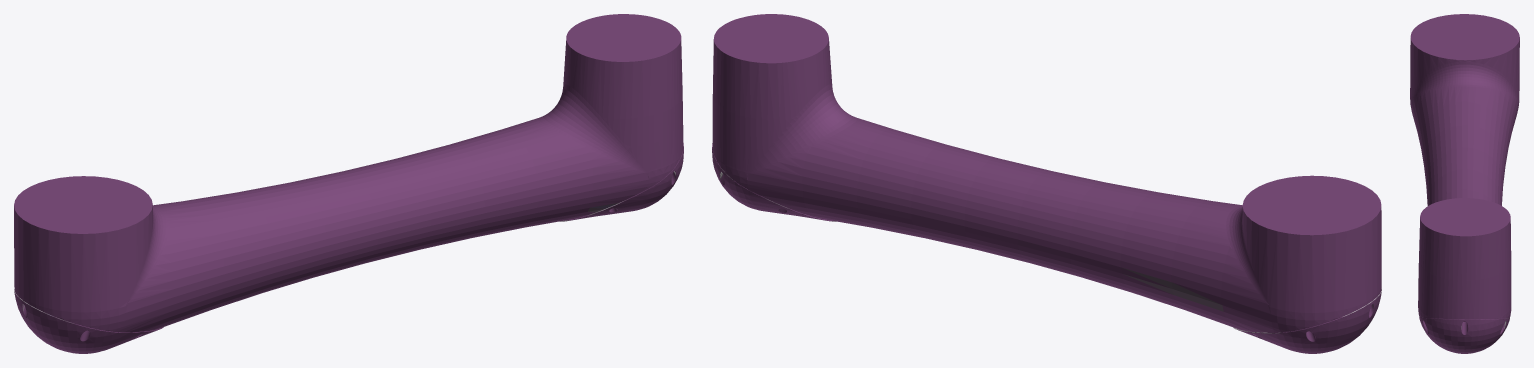
The model's file is FanucCRX10IALink2.dae.
3 views of the same model, side by side, from view 1: azimuth 30°, elevation 25°; view 2: azimuth 150°, elevation 25°; view 3: azimuth 270°, elevation 25° (orthographic). The views are drawn at different scales.
Visible parts, largest first — view 1: CRX10IALink2; view 2: CRX10IALink2; view 3: CRX10IALink2.
Boxes of the visible parts, left/top/right/bottom form: CRX10IALink2: left=14, top=14, right=683, bottom=353; CRX10IALink2: left=712, top=14, right=1381, bottom=353; CRX10IALink2: left=1410, top=14, right=1519, bottom=353.
Size of the model in its own units: 0.8573 by 0.1587 by 0.2229.
